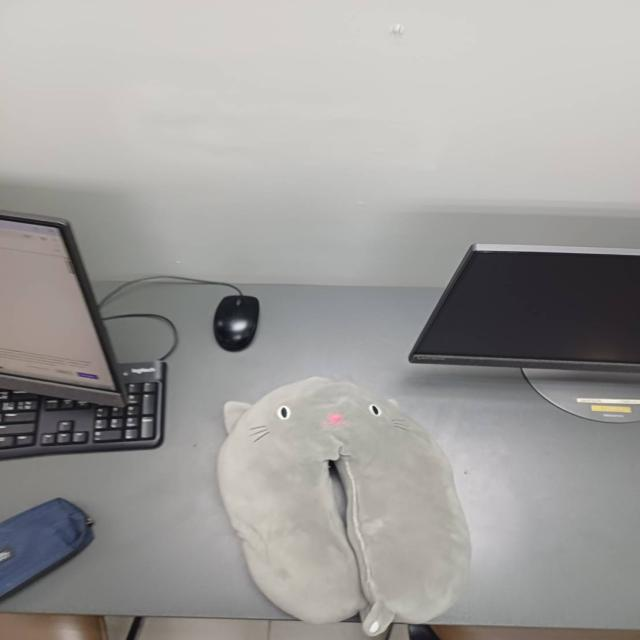pillow: (209, 374, 479, 640)
